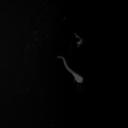fish: (56, 56, 84, 84)
